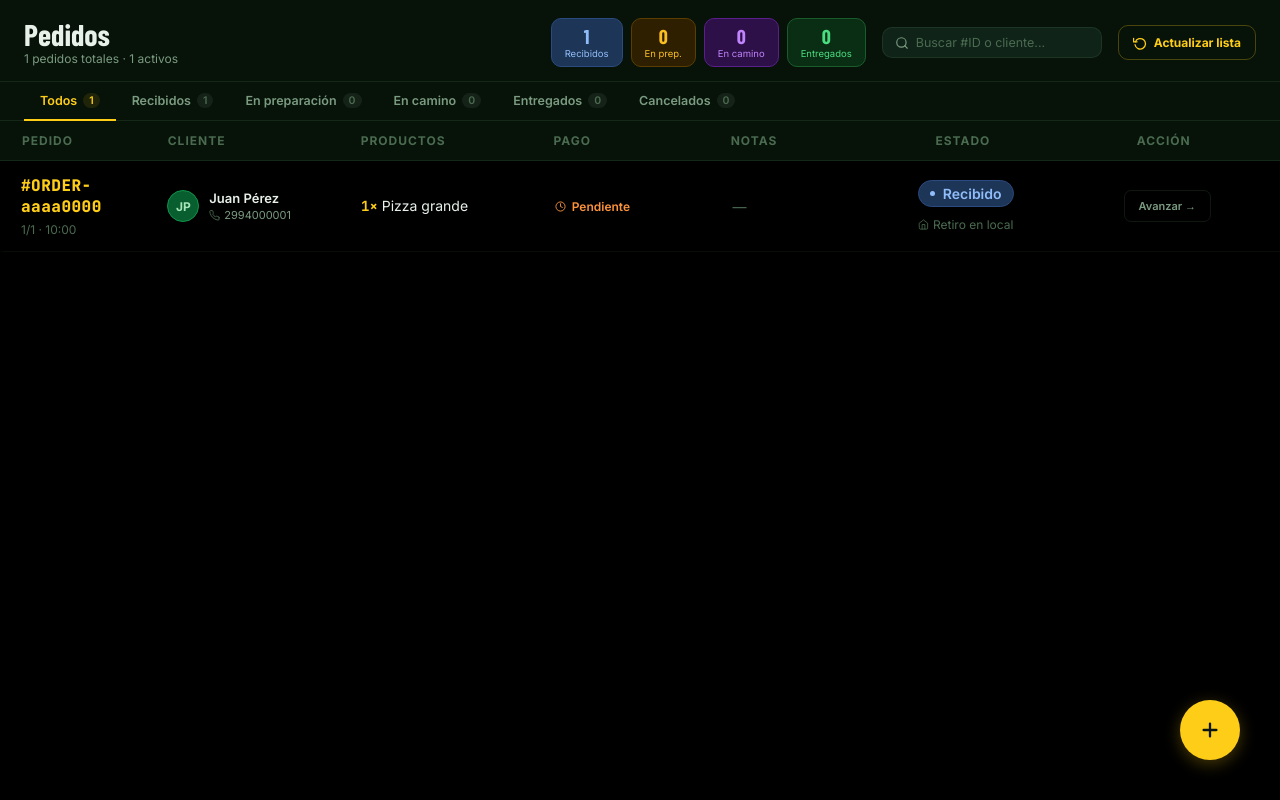
Test: panel de detalle › se abre al clickear una fila
The width and height of the screenshot is (1280, 800).
Expected: the text "ESTADO DEL PEDIDO" is not shown
Click the element with class "orders-row": (640, 206) [0,161,1279,252]
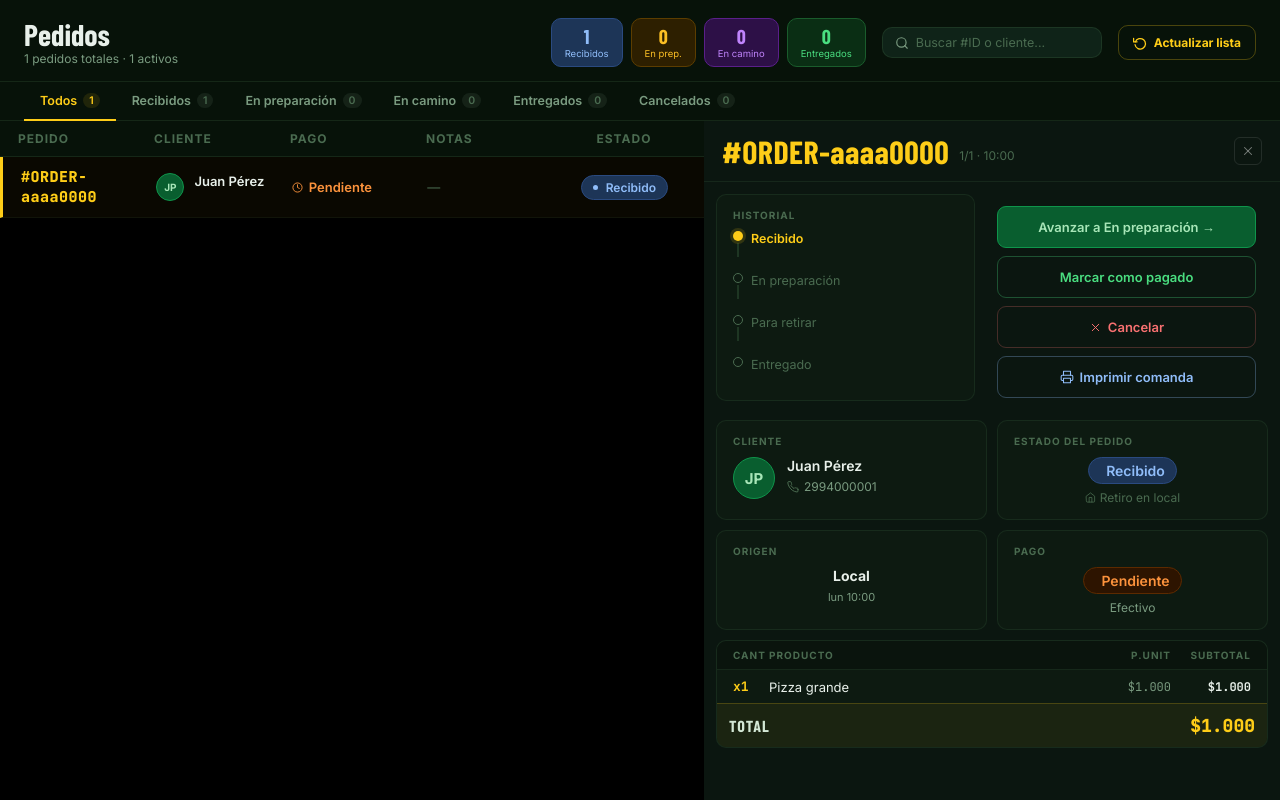
Now the text "ESTADO DEL PEDIDO" is shown, box [1014,435,1133,447]
